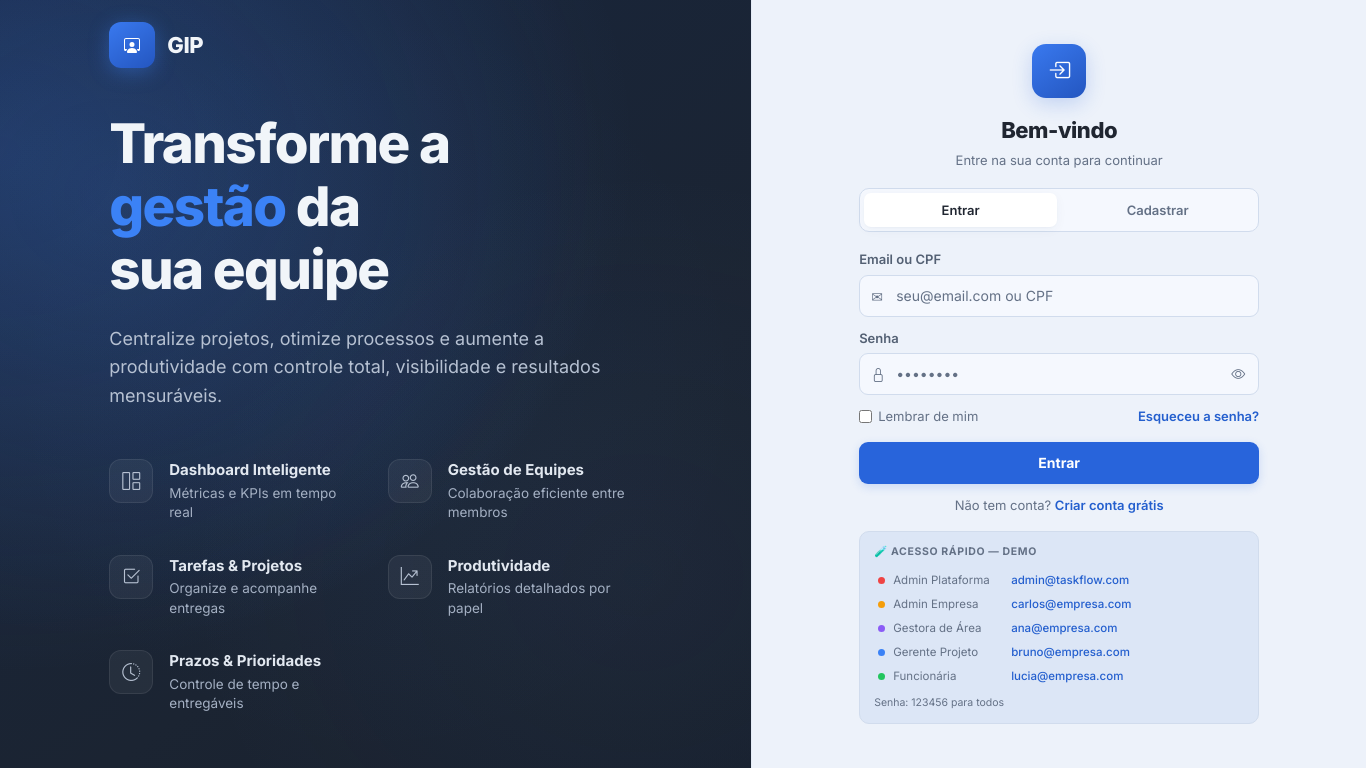
Test case: link abre recuperação na própria tela e permite voltar
What coordinates should you click on to do the following:
click the button "Esqueceu a senha?"
I would click on:
 (1199, 416)
Its box is [1138,407,1259,426].
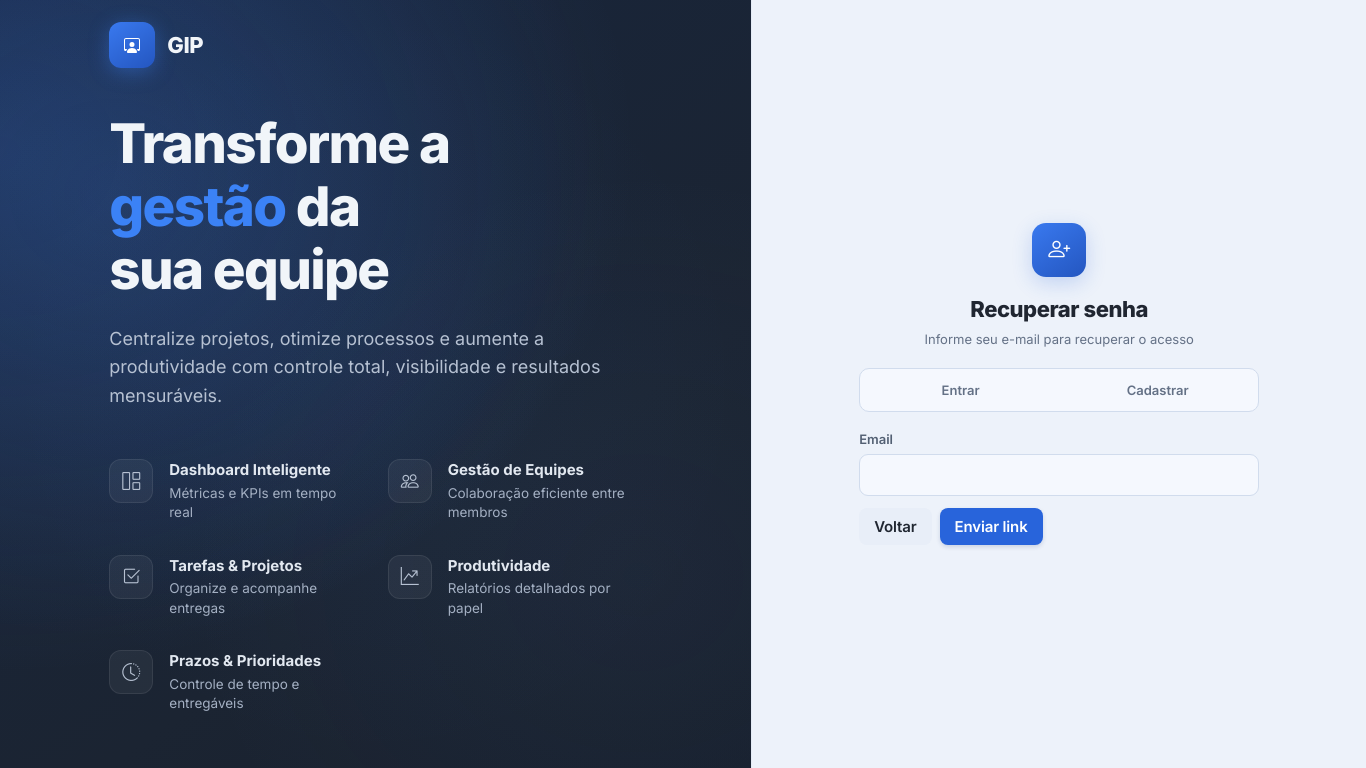
Expected: the text "Enviar link" is shown, [940,508,1042,545]
What coordinates should you click on to do the following:
click the button "Voltar"
I would click on:
 (895, 526)
Its box is [859,508,932,545].
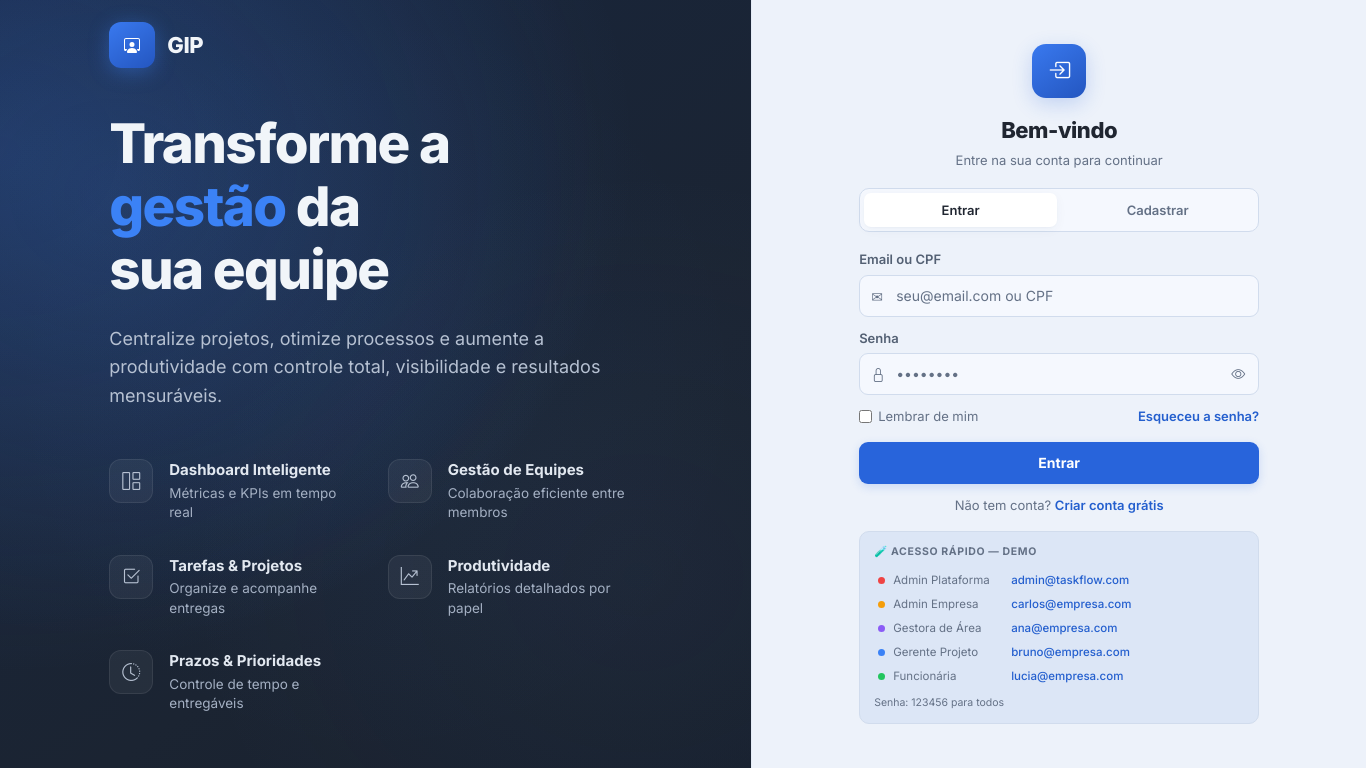
Expected: the text "Email ou CPF" is shown, [859,252,941,268]
